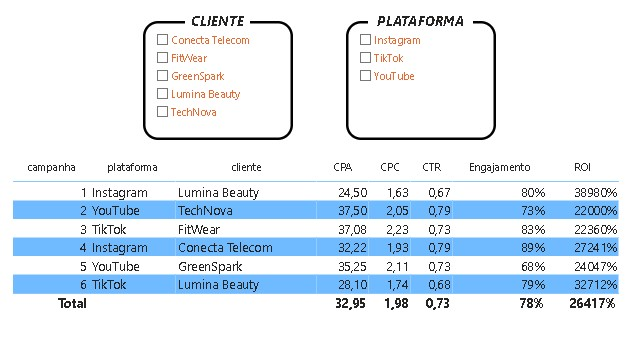

Layout of this report page (visuals, bound fields, positions):
{"tool":"powerbi","page":{"name":"Desempenho","canvas":[1280,720],"ordinal":1},"visuals":[{"type":"tableEx","fields":{"Values":["campanhas.id_campanha","campanhas.plataforma","clientes.nome_cliente","campanhas.CPA","campanhas.CPC","campanhas.CTR","campanhas.Engajamento","campanhas.ROI"]},"box":[30,320,1226,360],"z":0},{"type":"slicer","fields":{"Values":["clientes.cliente"]},"box":[296,50,300,238],"z":1},{"type":"slicer","fields":{"Values":["campanhas.plataforma"]},"box":[702,50,300,238],"z":2},{"type":"textbox","box":[746,24,210,48],"z":3},{"type":"textbox","box":[380,24,130,50],"z":4}]}

Visuals, with their boxes in screenshot pixels (x1, y1, x2, y2), scaled from the page's 1280x720 canvas onto the 632x351 screenshot:
tableEx - campanhas.id_campanha x campanhas.plataforma: l=15, t=156, r=620, b=332
slicer - clientes.cliente: l=146, t=24, r=294, b=140
slicer - campanhas.plataforma: l=347, t=24, r=495, b=140
textbox: l=368, t=12, r=472, b=35
textbox: l=188, t=12, r=252, b=36
